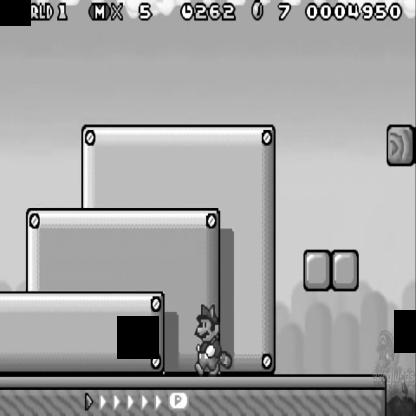Mario: (189, 300, 233, 375)
moneda: (250, 2, 264, 22)
